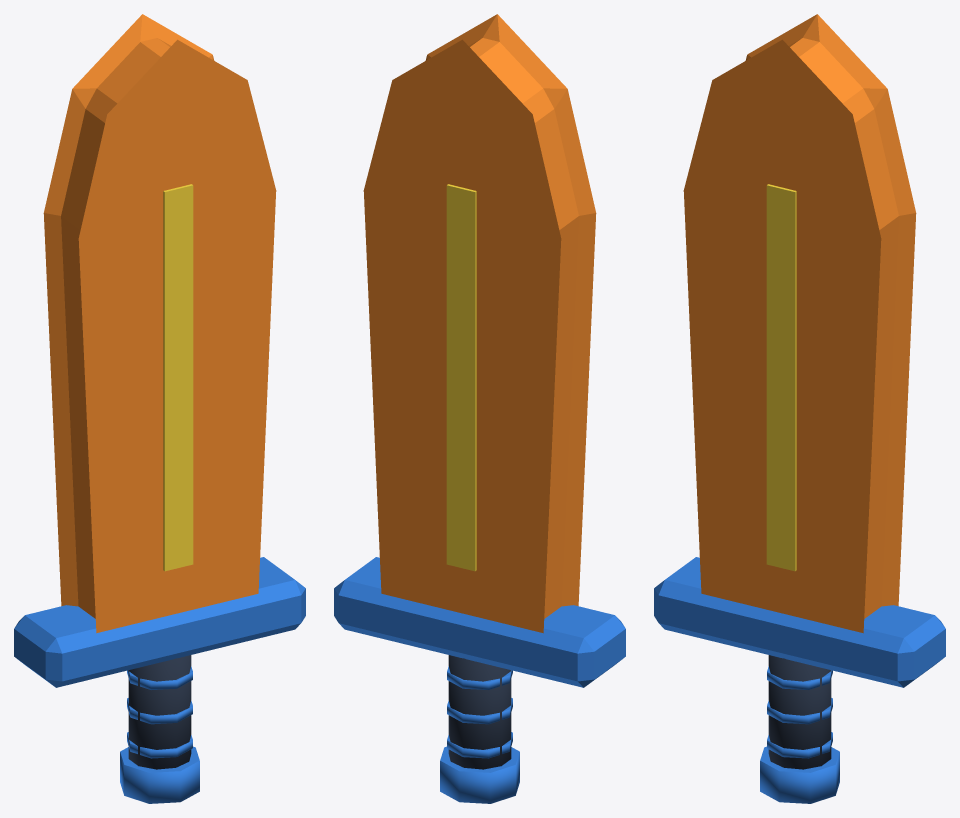
File: fps_sword.glb
3 views of the same model, side by side, from view 1: azimuth 30°, elevation 25°; view 2: azimuth 150°, elevation 25°; view 3: azimuth 330°, elevation 25° (orthographic).
Parts seen in each view (by area): view 1: sword_blade, detail_Blueberry, detail_Lemon, grip; view 2: sword_blade, detail_Blueberry, detail_Lemon, grip; view 3: sword_blade, detail_Blueberry, detail_Lemon, grip.
Part boxes in pixels (left/top/right/bottom): sword_blade: left=43, top=14, right=276, bottom=633; detail_Blueberry: left=14, top=557, right=305, bottom=803; detail_Lemon: left=163, top=184, right=193, bottom=571; grip: left=128, top=655, right=191, bottom=769; sword_blade: left=363, top=14, right=596, bottom=633; detail_Blueberry: left=334, top=557, right=625, bottom=803; detail_Lemon: left=446, top=184, right=476, bottom=571; grip: left=448, top=655, right=511, bottom=769; sword_blade: left=683, top=14, right=916, bottom=633; detail_Blueberry: left=654, top=557, right=945, bottom=803; detail_Lemon: left=766, top=184, right=796, bottom=571; grip: left=768, top=655, right=831, bottom=769.
Size of the model in its own units: 0.43 by 1.2 by 0.125.
